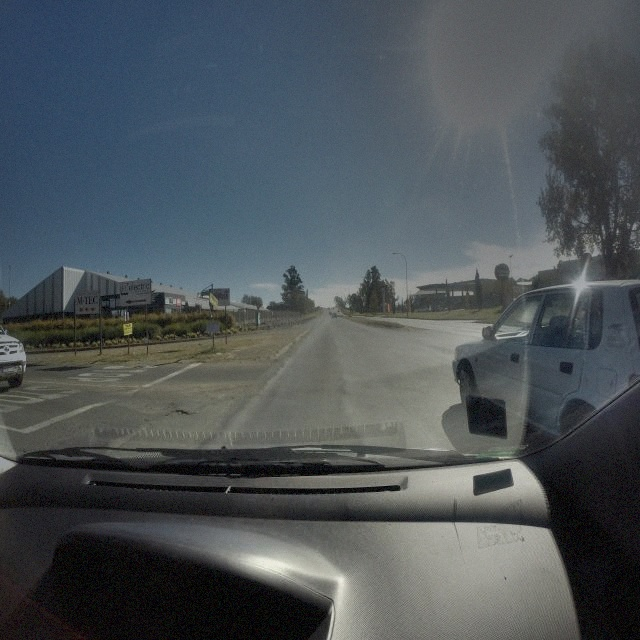pothole: (167, 406, 190, 417)
